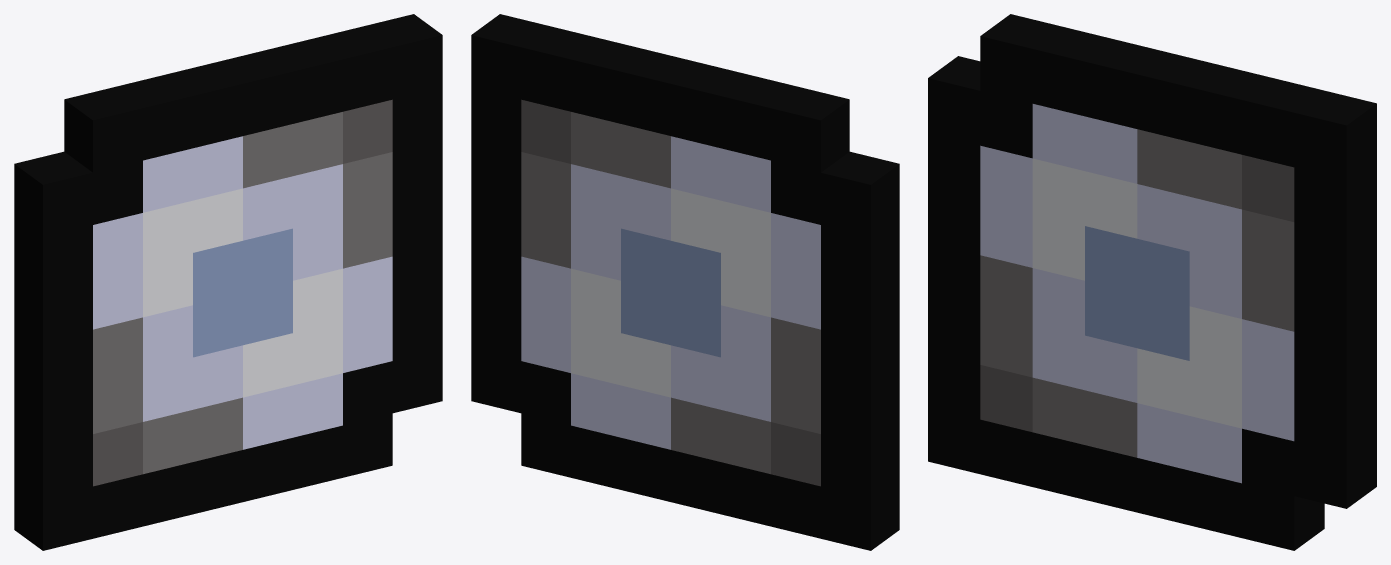
File: Golem Eye.glb
3 renders of one model, left to right at view 1: azimuth 30°, elevation 25°; view 2: azimuth 150°, elevation 25°; view 3: azimuth 330°, elevation 25°, orthographic. The views are drawn at different scales.
Parts seen in each view (by area): view 1: generated(Clone); view 2: generated(Clone); view 3: generated(Clone).
Part boxes in pixels (x1=…): generated(Clone): x1=14, y1=14, x2=442, y2=550; generated(Clone): x1=471, y1=14, x2=899, y2=550; generated(Clone): x1=928, y1=14, x2=1376, y2=550.
Size of the model in its own units: 8 by 8 by 1.
Materials: 1 (1 with a texture image).
